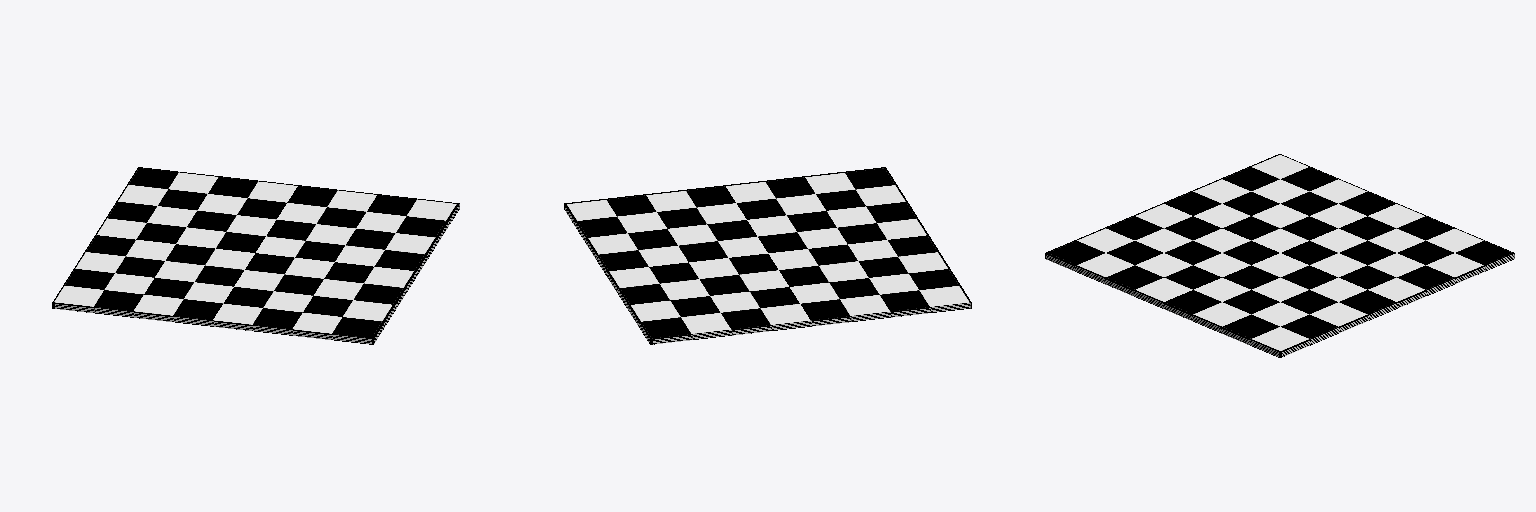
The picture shows the model from 3 angles: view 1: azimuth 30°, elevation 25°; view 2: azimuth 150°, elevation 25°; view 3: azimuth 270°, elevation 25°; orthographic projection.
Parts seen in each view (by area): view 1: Cube; view 2: Cube; view 3: Cube.
Part boxes in pixels (x1,y1,x2,y2): Cube: (52,167,459,344); Cube: (564,167,971,344); Cube: (1045,154,1514,357).
Bounding box in the file's own units: 16.69 × 0.221 × 16.69.
1 materials, 1 textured.